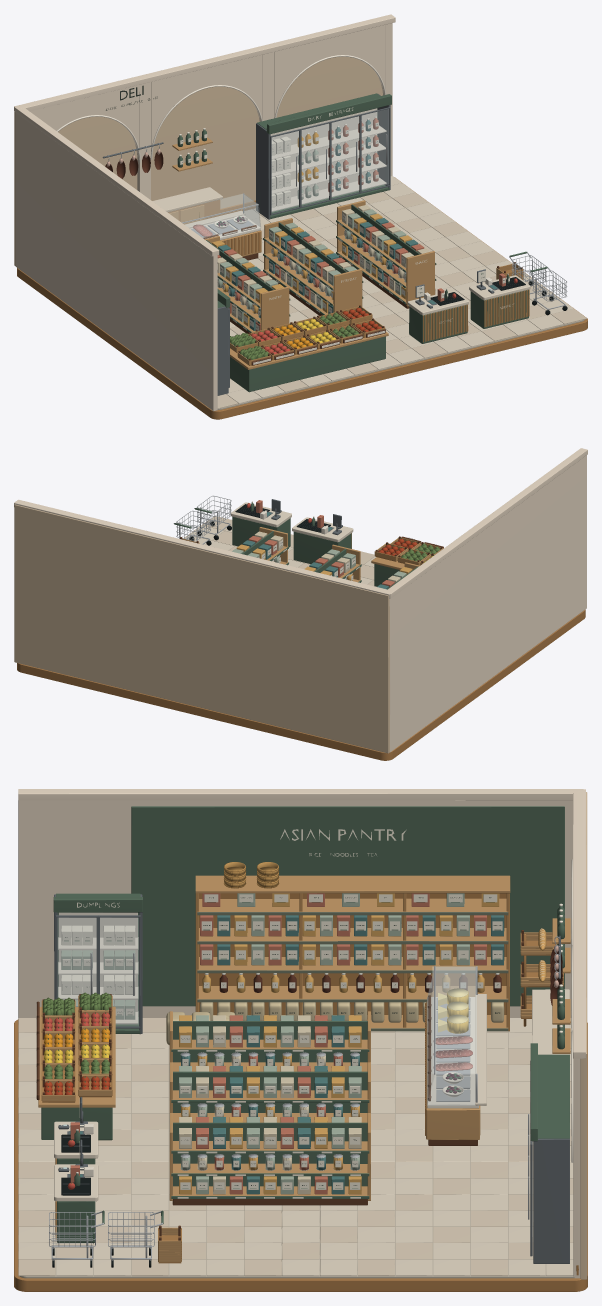
The model's file is sams-supermarket.glb.
The picture shows the model from 3 angles, top to bottom: view 1: azimuth 30°, elevation 25°; view 2: azimuth 150°, elevation 25°; view 3: azimuth 270°, elevation 25°; orthographic projection. The views are drawn at different scales.
Parts seen in each view (by area): view 1: Sam's supermarket; view 2: Sam's supermarket; view 3: Sam's supermarket.
Boxes of the visible parts, box(x1,y1,x2,y2) form: Sam's supermarket: box(14, 14, 587, 419); Sam's supermarket: box(14, 448, 587, 760); Sam's supermarket: box(14, 789, 587, 1291).
Size of the model in its own units: 13.21 by 5.62 by 12.18.
